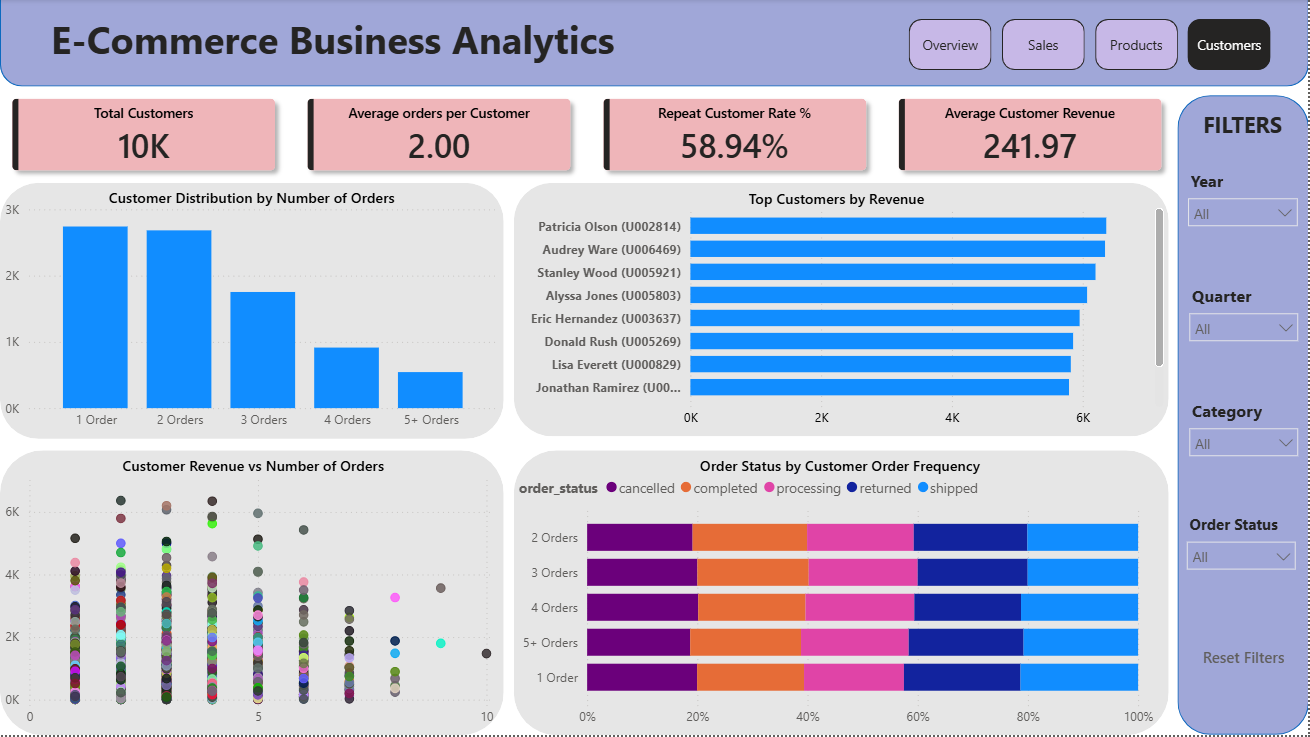

Layout of this report page (visuals, bound fields, positions):
{"tool":"powerbi","page":{"name":"Customers","canvas":[1280,720],"ordinal":3},"visuals":[{"type":"cardVisual","fields":{"Data":["Measures_Table.Total Customers","Measures_Table.Average orders per Customer","Measures_Table.Repeat Customer Rate %","Measures_Table.Average Customer Revenue"]},"box":[0,85.6,1151.9,94.2],"z":0},{"type":"shape","box":[0,0,1280.3,85.6],"z":1000},{"type":"textbox","box":[0,8.6,640.8,72.1],"z":2000},{"type":"pageNavigator","box":[889,19.6,357.1,50.1],"z":3000},{"type":"shape","box":[1151.4,94.3,128.6,625.7],"z":4000},{"type":"slicer","fields":{"Values":["Date.Year"]},"box":[1152.5,161.2,127.5,83.8],"z":5000},{"type":"slicer","fields":{"Values":["Date.Quarter"]},"box":[1152.9,274.3,127.1,82.9],"z":6000},{"type":"slicer","fields":{"Values":["products.category"]},"box":[1152.9,386.5,127.1,82.9],"z":7000},{"type":"slicer","fields":{"Values":["orders.order_status"]},"box":[1151.2,498.8,127.1,82.9],"z":8000},{"type":"textbox","box":[1152.5,102.5,127.5,45],"z":9000},{"type":"actionButton","title":"Reset Filters","box":[1166.2,623.8,100,40],"z":10000},{"type":"shape","box":[0,179.8,492.8,250.7],"z":11000},{"type":"clusteredColumnChart","fields":{"Category":["users.Purchase Frequency"],"Y":["Count(users.user_id)"]},"box":[0,192,492.8,238.5],"z":13000},{"type":"shape","box":[502.6,179.8,640.8,248.2],"z":14000},{"type":"clusteredBarChart","fields":{"Category":["users.Customer Label"],"Y":["Measures_Table.Total Revenue"]},"box":[502.6,192,640.8,236],"z":15000},{"type":"shape","box":[0,441.4,492.8,278.8],"z":16000},{"type":"scatterChart","fields":{"Y":["Measures_Table.Total Revenue"],"X":["Measures_Table.Total Orders"],"Series":["users.user_id"]},"box":[0,457.3,492.8,262.9],"z":17000},{"type":"shape","box":[502.6,441.4,640.8,278.8],"z":18000},{"type":"hundredPercentStackedBarChart","fields":{"Category":["users.Purchase Frequency"],"Y":["CountNonNull(orders.order_id)"],"Series":["orders.order_status"]},"box":[502.6,457.3,631,262.9],"z":20000},{"type":"textbox","box":[679.9,441.4,287.4,33],"z":20001},{"type":"textbox","box":[727.6,181,190.8,33],"z":20002},{"type":"textbox","box":[101.5,179.8,295.9,33],"z":20003},{"type":"textbox","box":[114.9,441.4,269,33],"z":20004}]}

Visuals, with their boxes in screenshot pixels (x1, y1, x2, y2), scaled from the page's 1280x720 canvas onto the 1310x737 screenshot:
cardVisual - Measures_Table.Total Customers x Measures_Table.Average orders per Customer: bbox(0, 88, 1179, 184)
shape: bbox(0, 0, 1309, 88)
textbox: bbox(0, 9, 656, 83)
pageNavigator: bbox(910, 20, 1275, 71)
shape: bbox(1178, 97, 1309, 736)
slicer - Date.Year: bbox(1180, 165, 1309, 251)
slicer - Date.Quarter: bbox(1180, 281, 1309, 366)
slicer - products.category: bbox(1180, 396, 1309, 480)
slicer - orders.order_status: bbox(1178, 511, 1308, 595)
textbox: bbox(1180, 105, 1309, 151)
"Reset Filters" actionButton: bbox(1194, 639, 1296, 679)
shape: bbox(0, 184, 504, 441)
clusteredColumnChart - users.Purchase Frequency x Count(users.user_id): bbox(0, 197, 504, 441)
shape: bbox(514, 184, 1170, 438)
clusteredBarChart - users.Customer Label x Measures_Table.Total Revenue: bbox(514, 197, 1170, 438)
shape: bbox(0, 452, 504, 736)
scatterChart - Measures_Table.Total Revenue x Measures_Table.Total Orders: bbox(0, 468, 504, 736)
shape: bbox(514, 452, 1170, 736)
hundredPercentStackedBarChart - users.Purchase Frequency x CountNonNull(orders.order_id): bbox(514, 468, 1160, 736)
textbox: bbox(696, 452, 990, 486)
textbox: bbox(745, 185, 940, 219)
textbox: bbox(104, 184, 407, 218)
textbox: bbox(118, 452, 393, 486)
